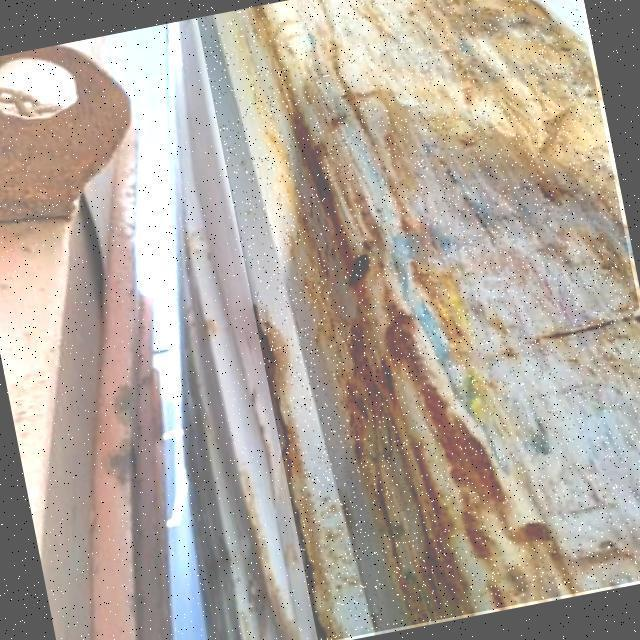rust: (198, 1, 640, 640)
